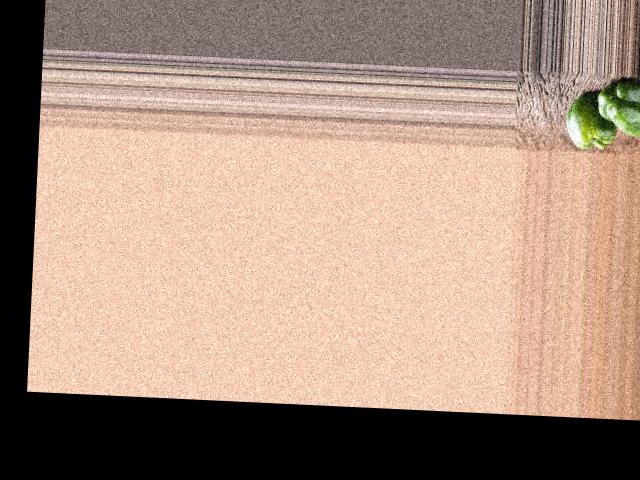bell_pepper: (593, 81, 640, 138)
